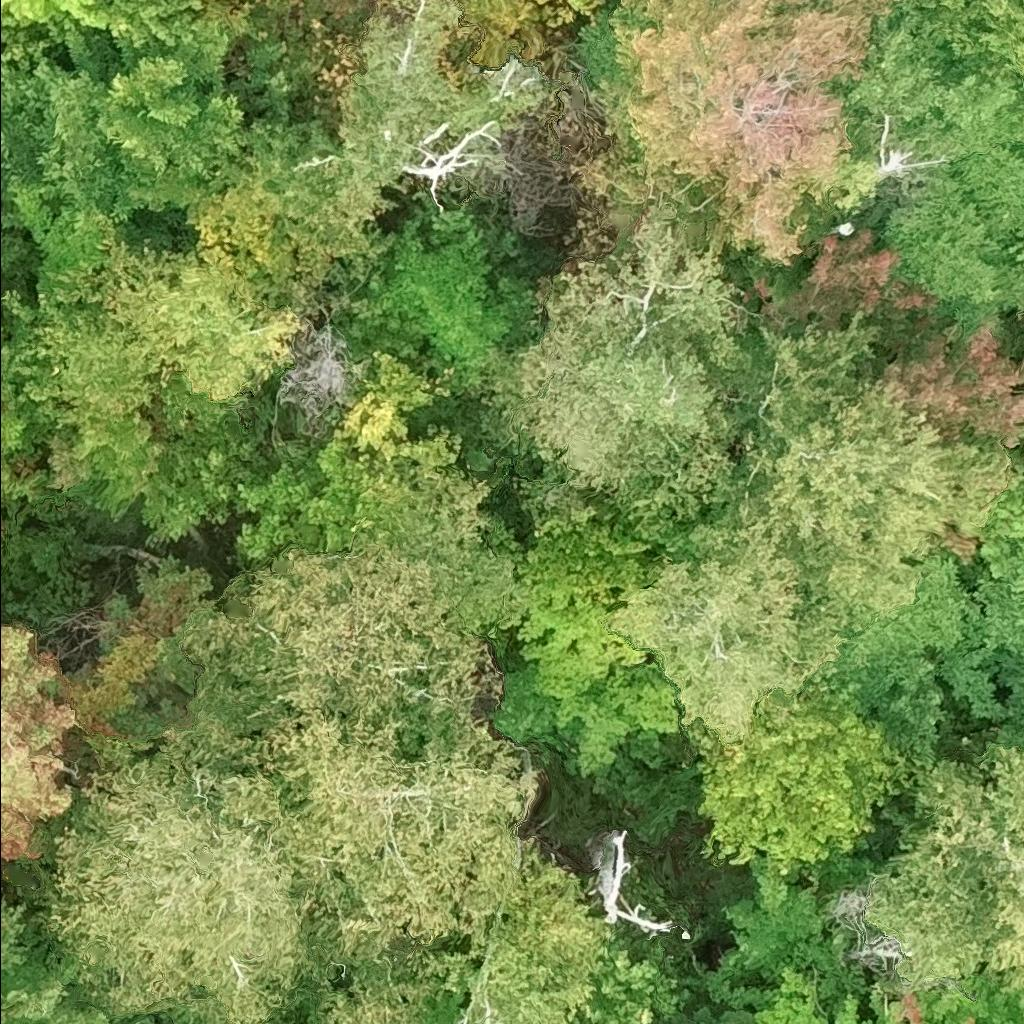crown: (479, 198, 761, 515), (738, 302, 1011, 626), (26, 740, 331, 1023), (230, 706, 536, 971), (158, 535, 492, 770), (617, 0, 900, 266), (607, 492, 856, 754), (748, 226, 1023, 458), (297, 839, 614, 1023), (0, 20, 253, 227), (23, 232, 297, 417), (687, 681, 912, 889), (871, 722, 1023, 1023), (65, 552, 214, 767), (346, 228, 542, 390), (356, 467, 529, 635), (339, 0, 495, 186), (705, 861, 866, 1009), (837, 550, 982, 707), (0, 622, 80, 867), (552, 656, 687, 778), (231, 439, 356, 566), (516, 596, 657, 702), (716, 969, 988, 1023), (0, 369, 73, 561), (48, 399, 168, 515), (138, 438, 260, 546), (569, 928, 685, 1023), (921, 0, 1023, 79), (0, 897, 57, 1023), (93, 0, 229, 51), (972, 447, 1023, 576), (0, 287, 45, 402), (0, 0, 119, 30), (652, 1003, 718, 1023), (1013, 549, 1023, 595), (1019, 711, 1023, 724), (1022, 432, 1023, 436)
